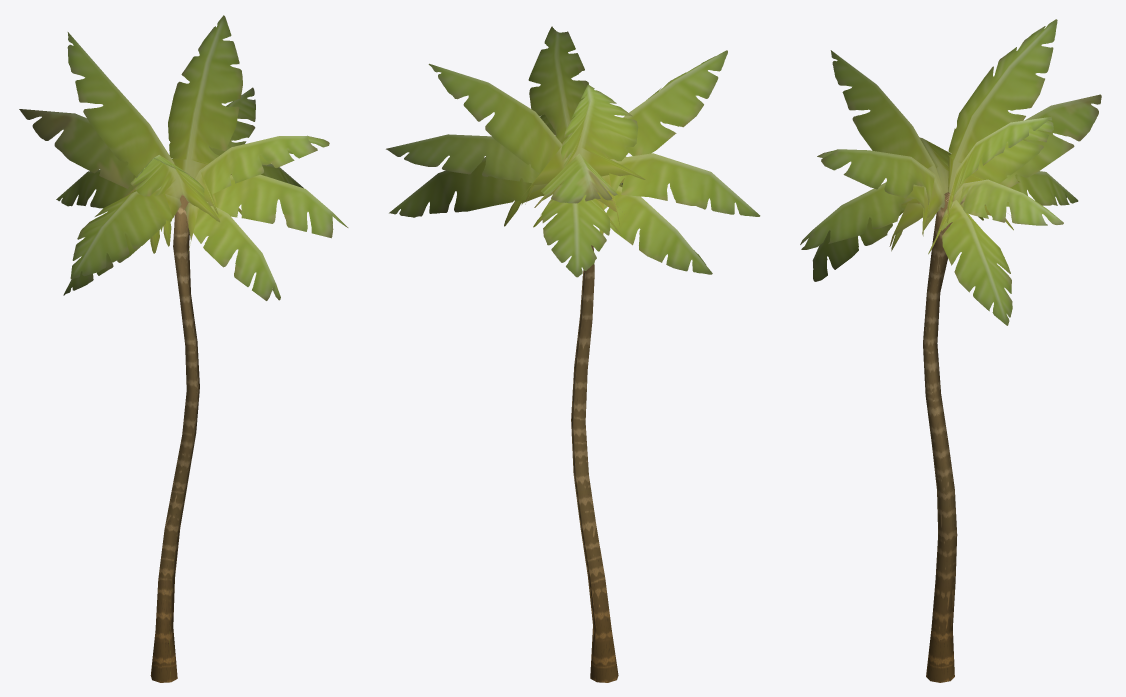
The model's file is coconut palm 02_lod4.obj.
3 views of the same model, side by side, from view 1: azimuth 30°, elevation 25°; view 2: azimuth 150°, elevation 25°; view 3: azimuth 270°, elevation 25° (orthographic). The views are drawn at different scales.
Parts seen in each view (by area): view 1: tree; view 2: tree; view 3: tree.
Boxes of the visible parts, <box> form: tree: <box>19,15,348,682</box>; tree: <box>386,26,760,682</box>; tree: <box>800,19,1101,682</box>.
Size of the model in its own units: 426 by 848 by 388.
